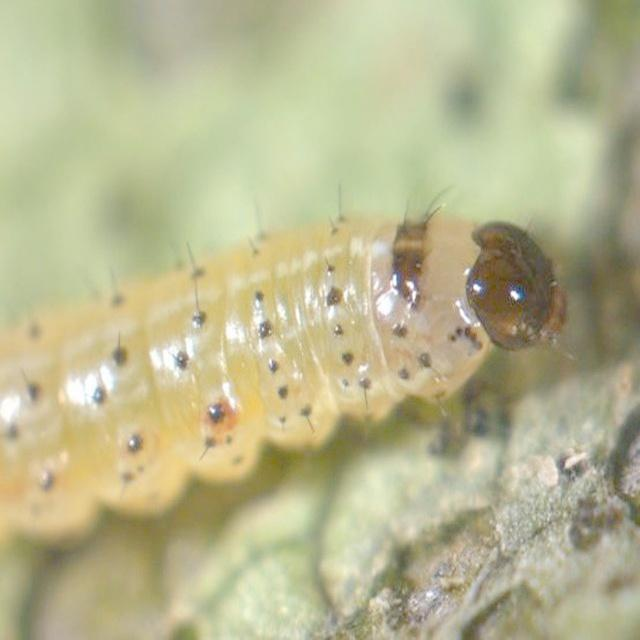gusano_cogollero: (0, 192, 571, 564)
